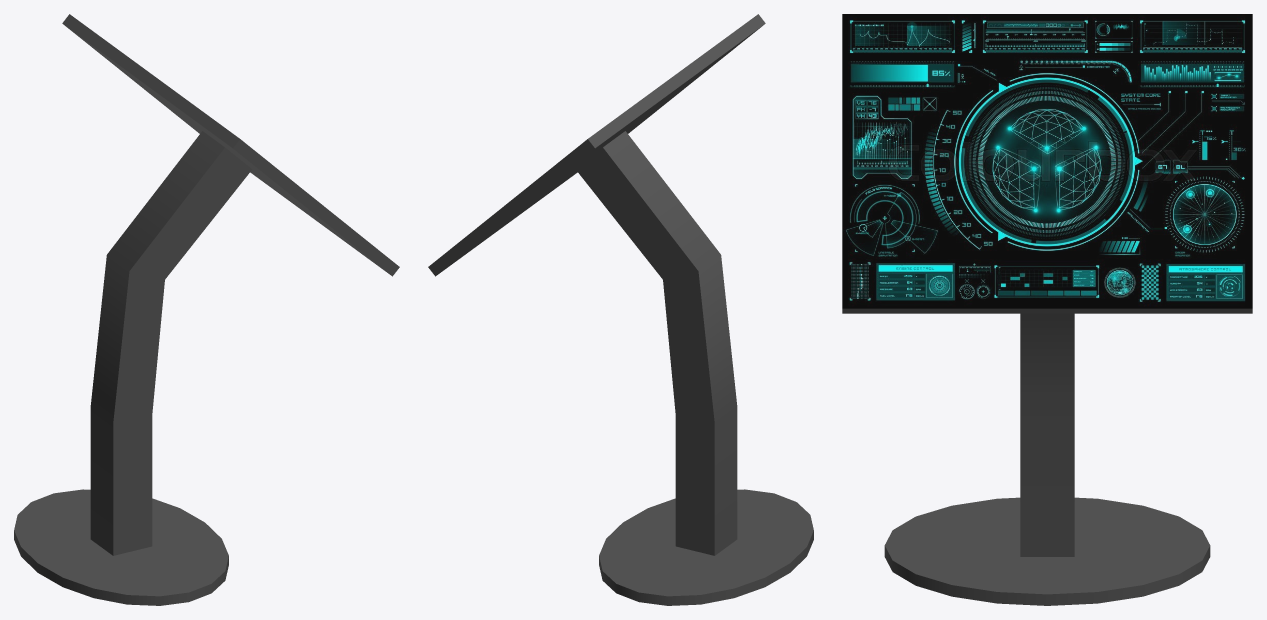
File: TouchDisplay1.fbx
3 views of the same model, side by side, from view 1: azimuth 30°, elevation 25°; view 2: azimuth 150°, elevation 25°; view 3: azimuth 270°, elevation 25° (orthographic). The views are drawn at different scales.
Parts seen in each view (by area): view 1: pCube4; view 2: pCube4; view 3: pCube4.
Boxes of the visible parts, x1,y1,x2,y2 form: pCube4: [14, 14, 399, 605]; pCube4: [428, 14, 813, 605]; pCube4: [842, 14, 1252, 605].
Bounding box in the file's own units: 5.26 × 8.49 × 5.62.
